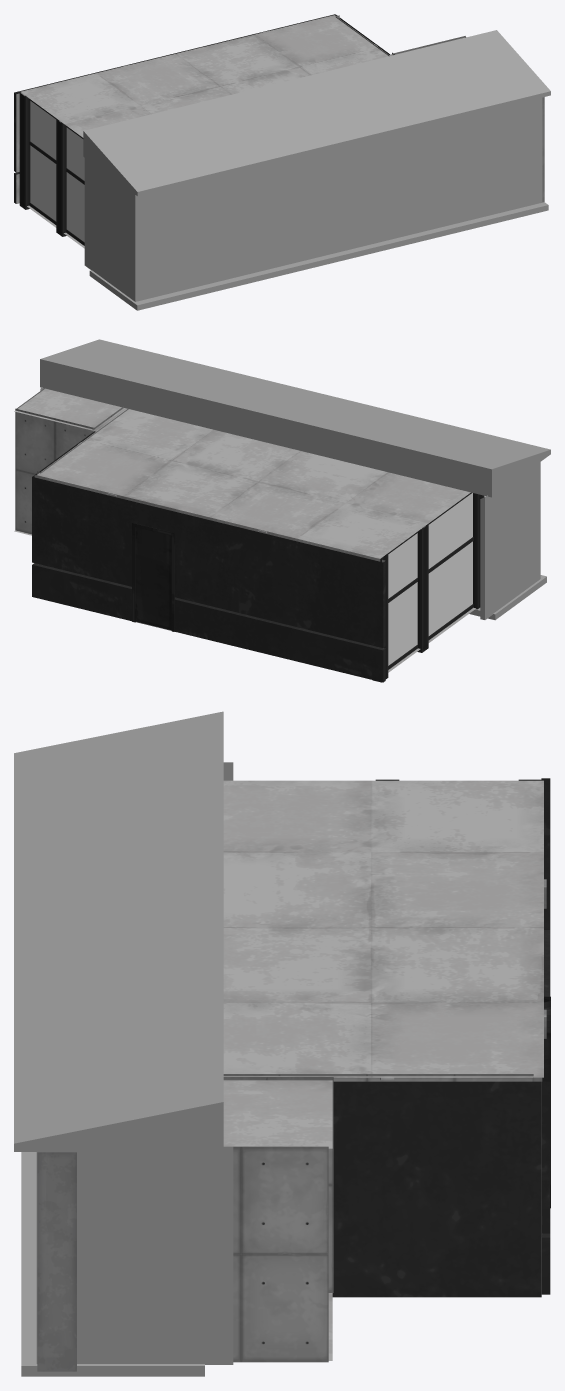
File: tattoo_shop_addon_1.fbx
3 renders of one model, top to bottom at view 1: azimuth 30°, elevation 25°; view 2: azimuth 150°, elevation 25°; view 3: azimuth 270°, elevation 25°, orthographic. The views are drawn at different scales.
Visible parts, largest first — view 1: tattoo_building_extend_out_wall_low1, extended_roof_low1, tattoo_studio_floor_low2, window, extended_floorbase_low1, tattoo_studio_window_piller_low2, tattoo_studio_window_piller_low, tattoo_studio_front_up_low; view 2: tattoo_studio_floor_low2, extended_roof_low1, tattoo_studio_front_up_low, tattoo_studio_front_bottom_low, window, tattoo_building_extend_out_wall_low1, tattoo_studio_center_wall_low6, tattoo_studio_door_low, tattoo_studio_window_piller_low, tattoo_studio_door_frame_low, tattoo_studio_window_piller_low4, extended_floorbase_low1 (+1 smaller); view 3: tattoo_studio_floor_low2, extended_roof_low1, tattoo_studio_left_out_wall_low, tattoo_building_extend_out_wall_low1, tattoo_studio_center_wall_low4, tattoo_studio_wall_piller1_low5, extended_floorbase_low1, tattoo_studio_front_up_low, tattoo_studio_center_wall_low2, tattoo_studio_center_wall_low5.
Part boxes in pixels (x1,y1,x2,y2): tattoo_building_extend_out_wall_low1: [84, 97, 542, 301]; extended_roof_low1: [83, 30, 550, 196]; tattoo_studio_floor_low2: [20, 15, 460, 137]; window: [30, 101, 84, 241]; extended_floorbase_low1: [89, 202, 548, 310]; tattoo_studio_window_piller_low2: [19, 92, 30, 209]; tattoo_studio_window_piller_low: [56, 119, 66, 236]; tattoo_studio_front_up_low: [14, 14, 337, 172]; tattoo_studio_floor_low2: [14, 388, 470, 561]; extended_roof_low1: [40, 339, 550, 497]; tattoo_studio_front_up_low: [32, 475, 385, 647]; tattoo_studio_front_bottom_low: [32, 563, 385, 682]; window: [388, 493, 485, 665]; tattoo_building_extend_out_wall_low1: [40, 387, 540, 619]; tattoo_studio_center_wall_low6: [15, 408, 94, 534]; tattoo_studio_door_low: [135, 527, 171, 630]; tattoo_studio_window_piller_low: [417, 524, 428, 652]; tattoo_studio_door_frame_low: [132, 523, 176, 631]; tattoo_studio_window_piller_low4: [473, 493, 484, 609]; extended_floorbase_low1: [469, 575, 546, 620]; tattoo_studio_floor_low2: [223, 780, 543, 1148]; extended_roof_low1: [14, 711, 223, 1151]; tattoo_studio_left_out_wall_low: [332, 1081, 541, 1297]; tattoo_building_extend_out_wall_low1: [36, 762, 233, 1364]; tattoo_studio_center_wall_low4: [233, 1146, 328, 1362]; tattoo_studio_wall_piller1_low5: [37, 1152, 76, 1371]; extended_floorbase_low1: [21, 1152, 204, 1376]; tattoo_studio_front_up_low: [541, 778, 550, 1233]; tattoo_studio_center_wall_low2: [223, 1074, 533, 1081]; tattoo_studio_center_wall_low5: [223, 1077, 333, 1292].
Bounding box in the file's own units: 9.92 × 3.26 × 5.76.
